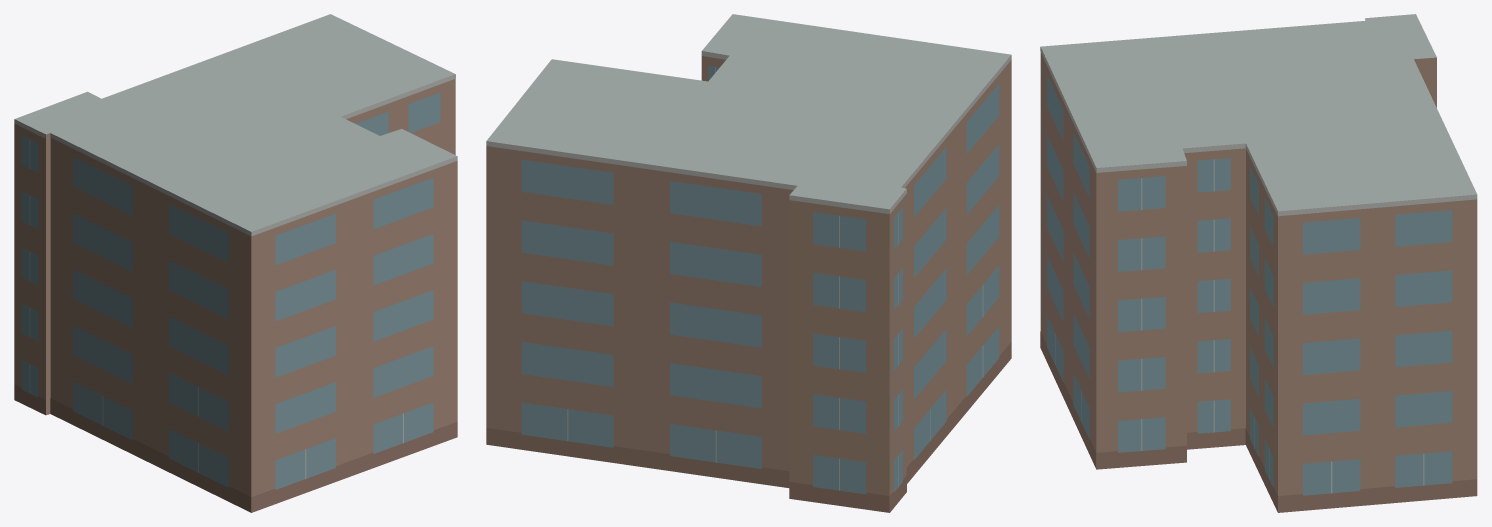
File: survey-upis-32714470.glb
3 renders of one model, left to right at view 1: azimuth 30°, elevation 25°; view 2: azimuth 150°, elevation 25°; view 3: azimuth 270°, elevation 25°, orthographic. The views are drawn at different scales.
Parts seen in each view (by area): view 1: survey-upis-32714470.tmp; view 2: survey-upis-32714470.tmp; view 3: survey-upis-32714470.tmp.
Boxes of the visible parts, bbox=[...] form: survey-upis-32714470.tmp: bbox=[14, 14, 457, 512]; survey-upis-32714470.tmp: bbox=[486, 14, 1011, 512]; survey-upis-32714470.tmp: bbox=[1040, 14, 1477, 512].
Bounding box in the file's own units: 21.52 × 15.31 × 20.12.
